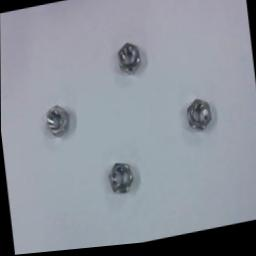Non-corroded Nut: (45, 106, 69, 137), (187, 102, 211, 133), (109, 165, 132, 195), (118, 45, 140, 76)
